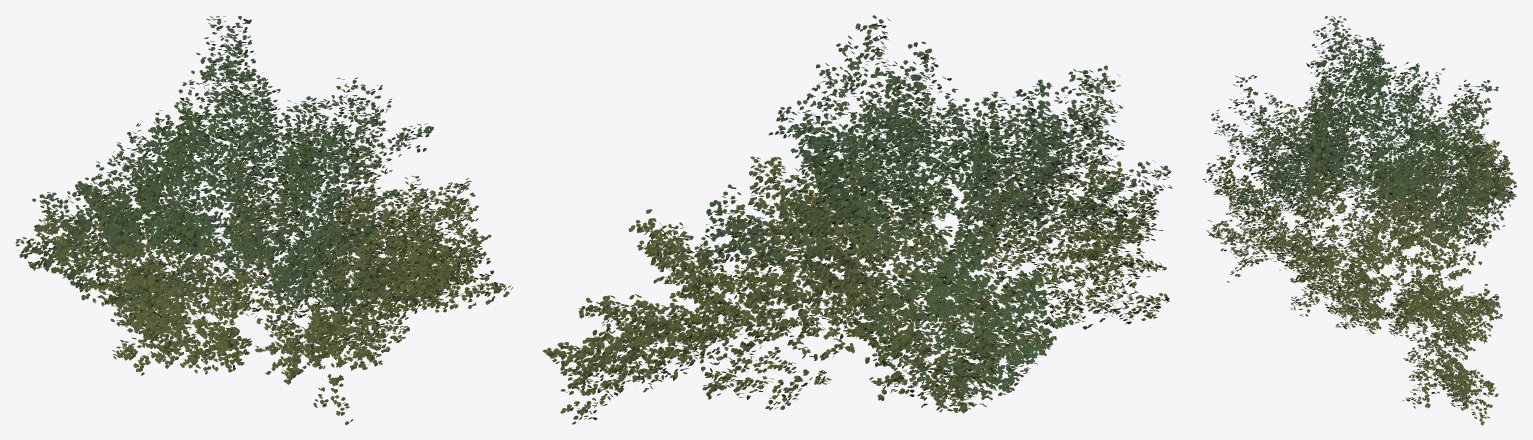
File: Tree1_leaves.obj
3 renders of one model, left to right at view 1: azimuth 30°, elevation 25°; view 2: azimuth 150°, elevation 25°; view 3: azimuth 270°, elevation 25°, orthographic. The views are drawn at different scales.
Parts seen in each view (by area): view 1: tree1; view 2: tree1; view 3: tree1.
Boxes of the visible parts, bbox=[...] form: tree1: bbox=[15, 16, 512, 424]; tree1: bbox=[543, 15, 1171, 424]; tree1: bbox=[1202, 16, 1517, 425].
Bounding box in the file's own units: 12.76 × 8.33 × 8.88.
3 materials, 3 textured.
